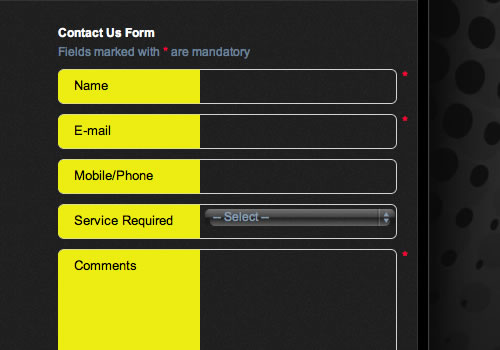_form_: (1, 1, 416, 350)
field: (198, 248, 399, 350), (197, 113, 398, 149), (198, 68, 397, 104), (199, 158, 398, 194), (203, 207, 397, 227)
field_with_label: (74, 247, 401, 350), (74, 156, 400, 196), (74, 112, 401, 151), (73, 67, 399, 106), (74, 204, 399, 229)
